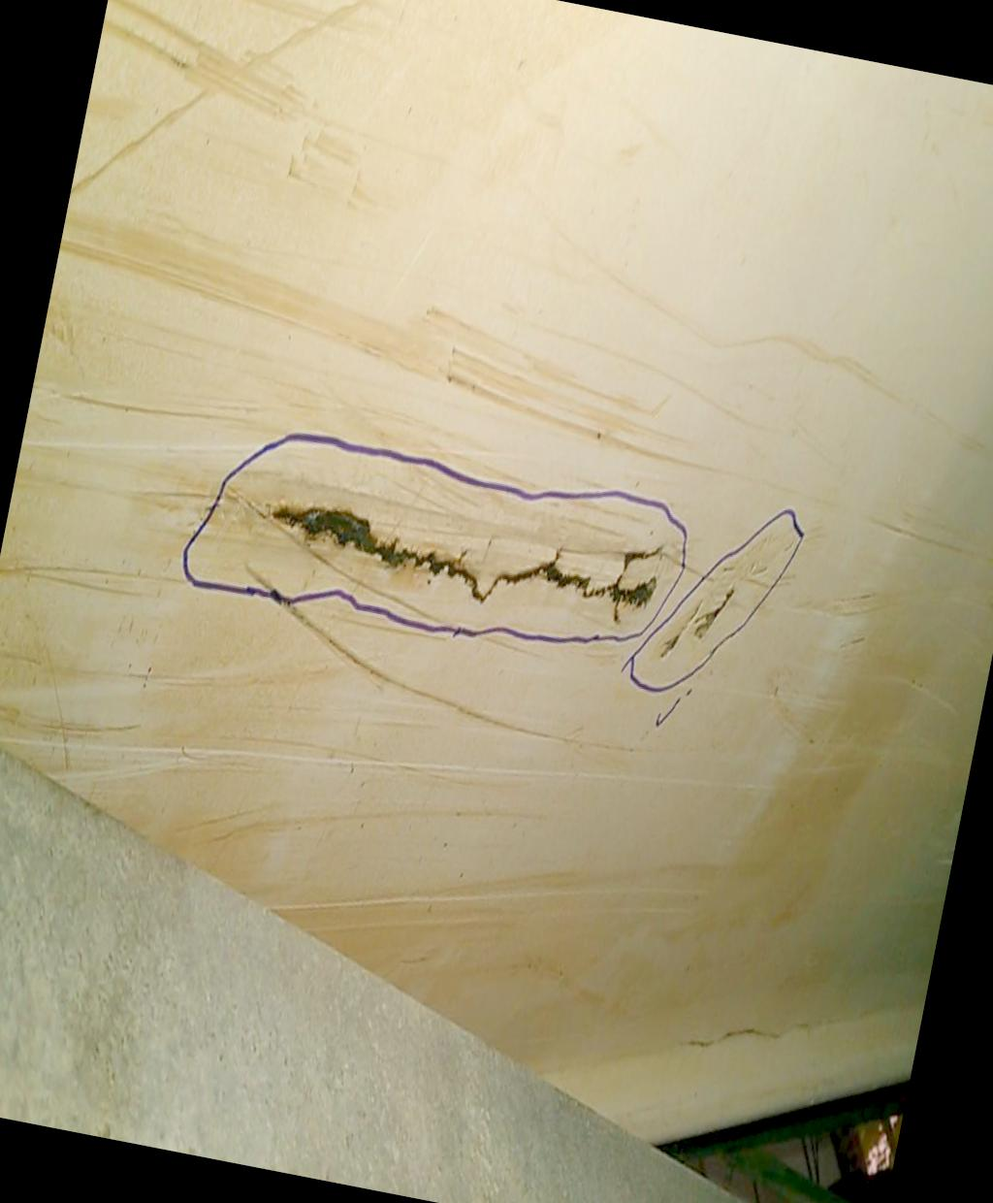crack: (250, 461, 668, 652), (653, 569, 740, 685)
